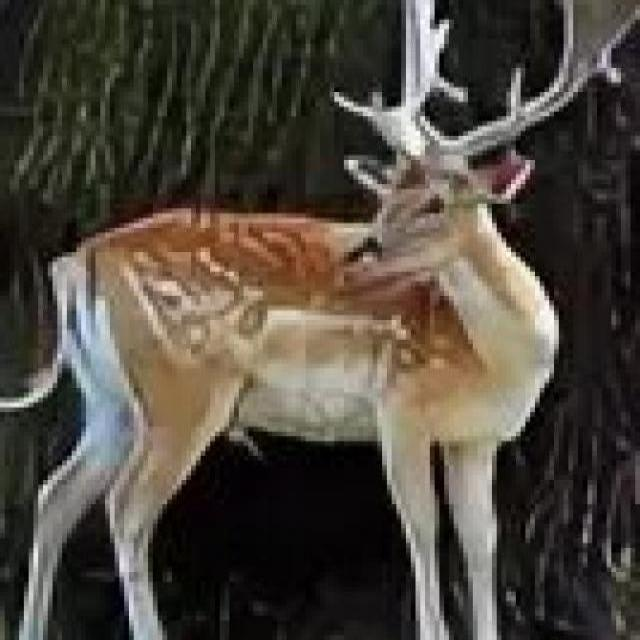deer: (0, 52, 640, 583)
